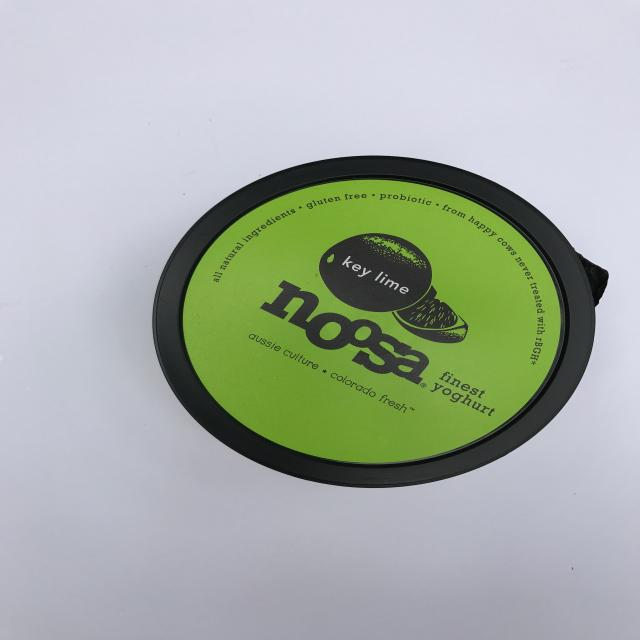plastic: (152, 154, 608, 488)
